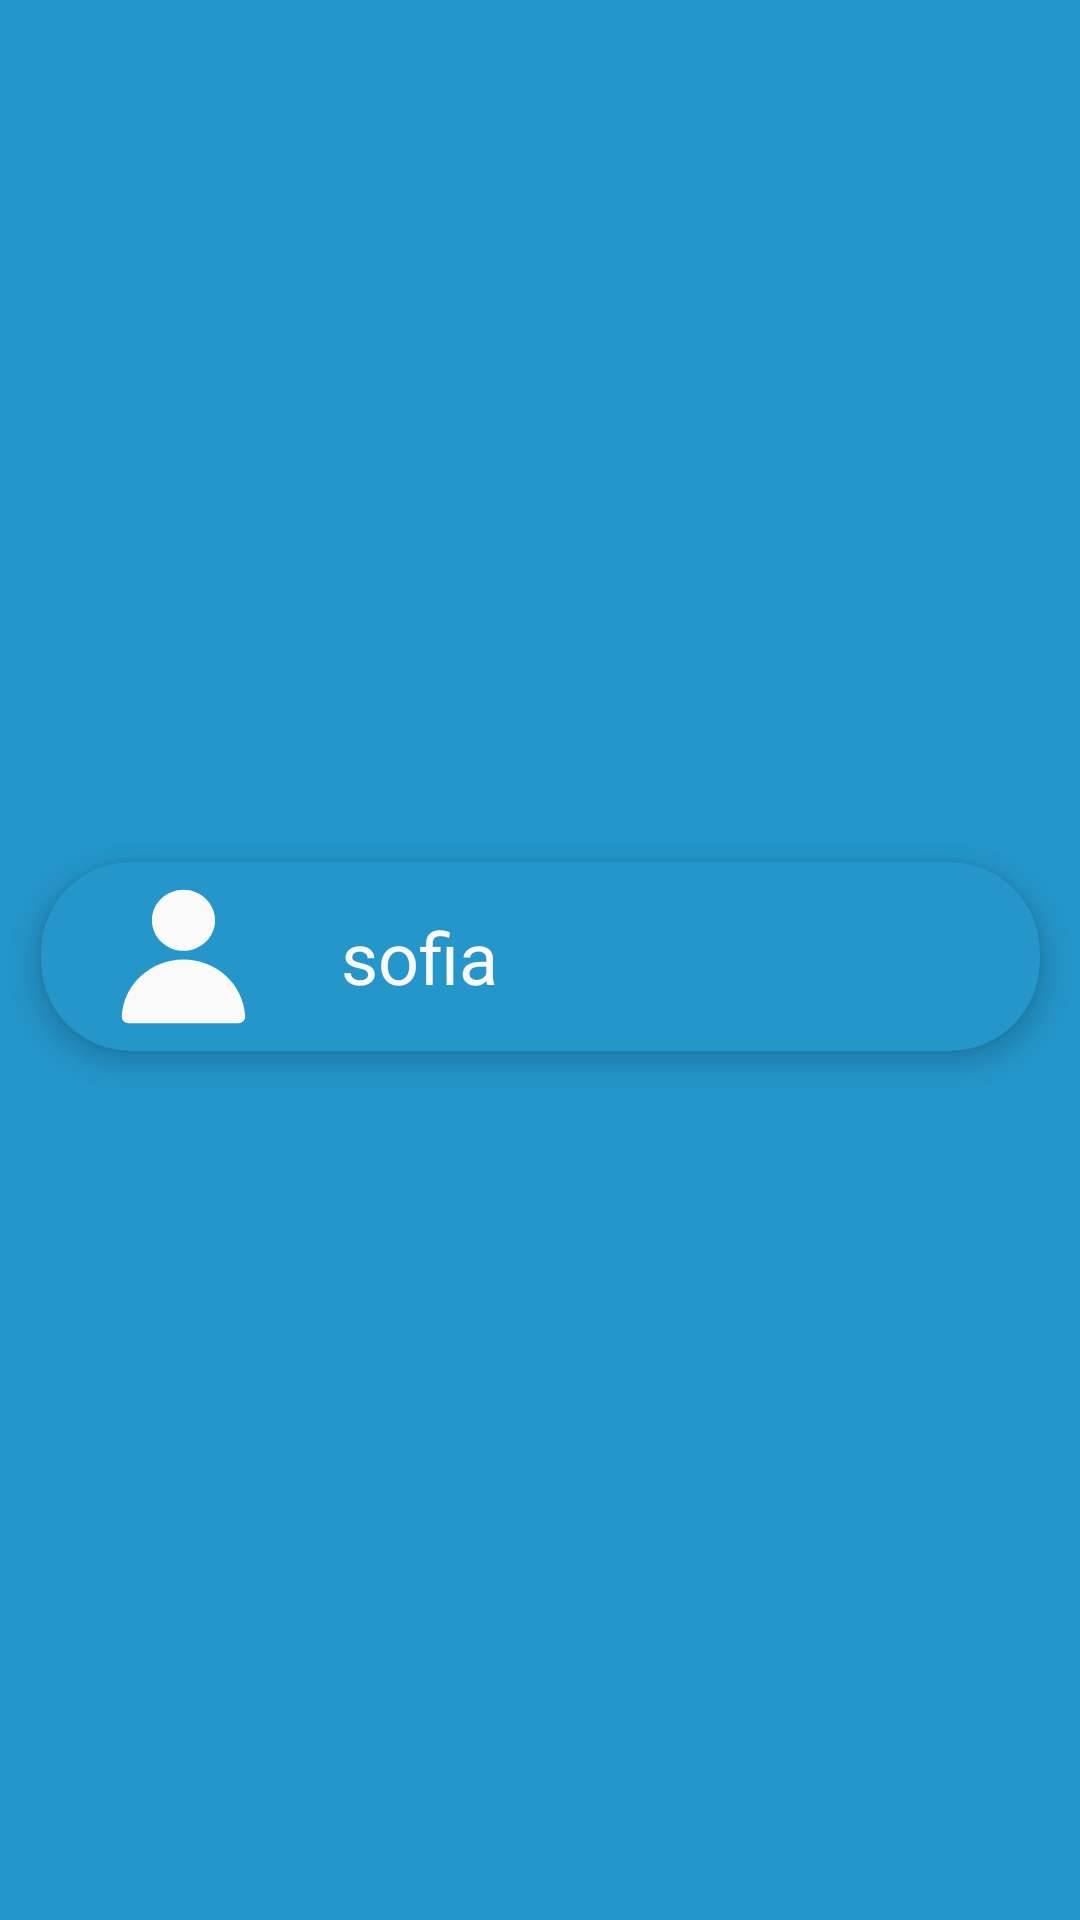

Where to tap for icons on this 1080px x 1920px app screen, as (x,y):
usuario blanco: (183,956)
